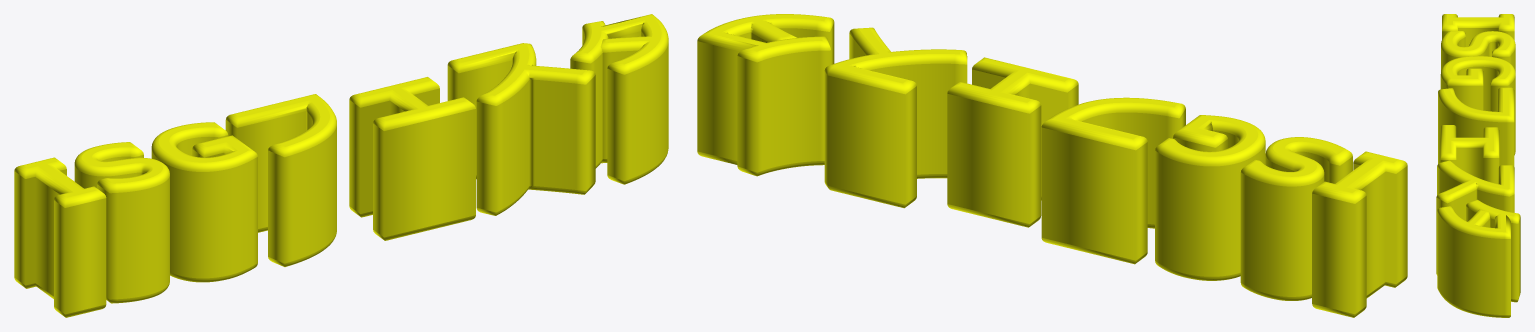
File: text_isgfesta.fbx
3 views of the same model, side by side, from view 1: azimuth 30°, elevation 25°; view 2: azimuth 150°, elevation 25°; view 3: azimuth 270°, elevation 25° (orthographic). The views are drawn at different scales.
Visible parts, largest first — view 1: Text_isg; view 2: Text_isg; view 3: Text_isg.
Boxes of the visible parts, x1,y1,x2,y2 form: Text_isg: (14,14,668,317); Text_isg: (697,14,1407,317); Text_isg: (1436,14,1520,317).
Bounding box in the file's own units: 414 × 74 × 66.17.
